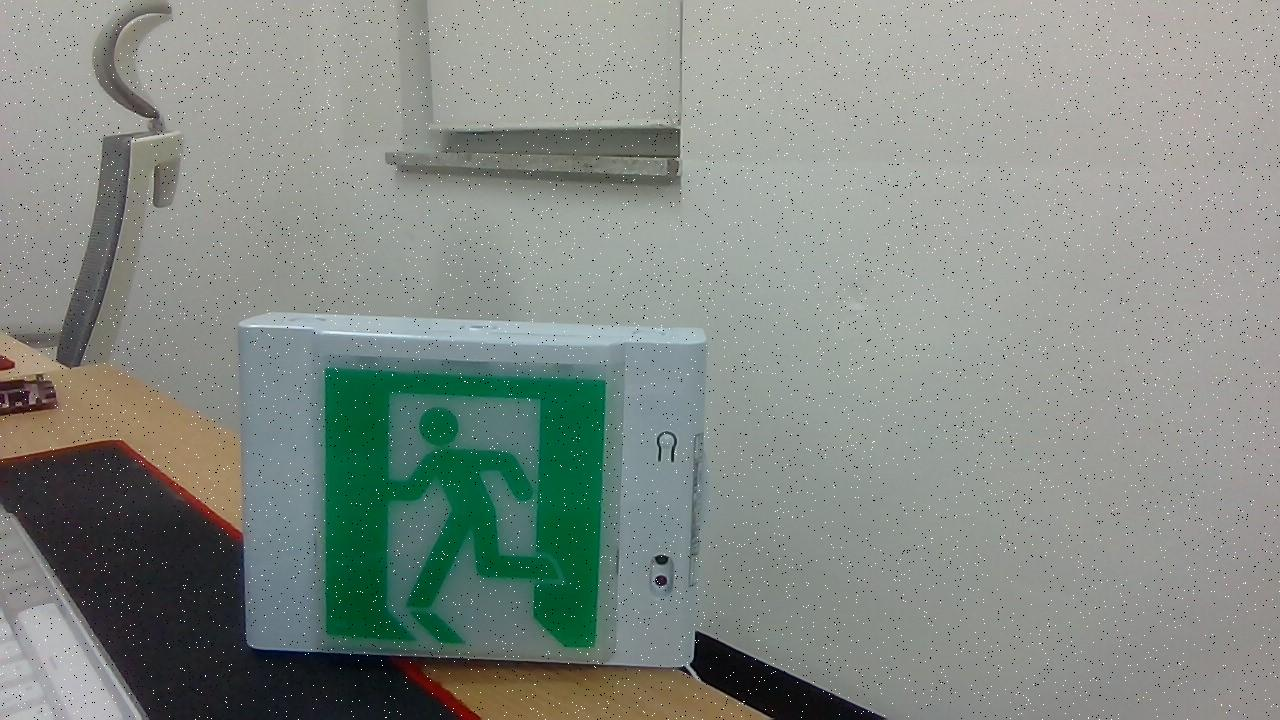emergency_exit: (237, 310, 707, 670)
